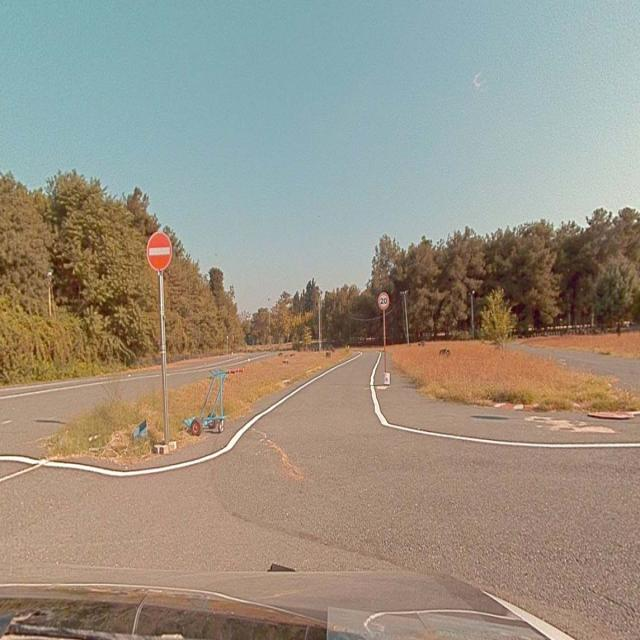20: (378, 292, 389, 310)
girisyok: (148, 233, 172, 268)
